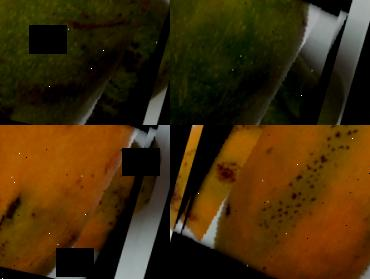PartiallyRipe: (170, 125, 370, 279)
Ripe: (0, 125, 158, 279)
Unripe: (170, 0, 350, 125), (0, 0, 170, 125)
